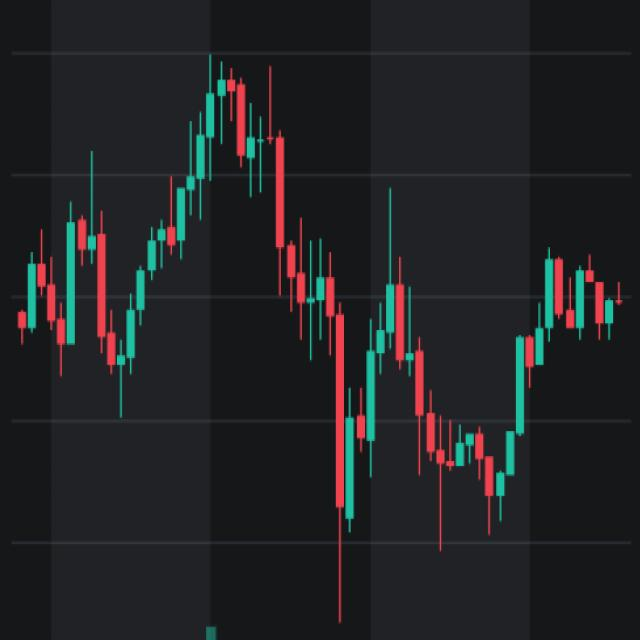Falling-Wedge: (48, 0, 536, 547)
